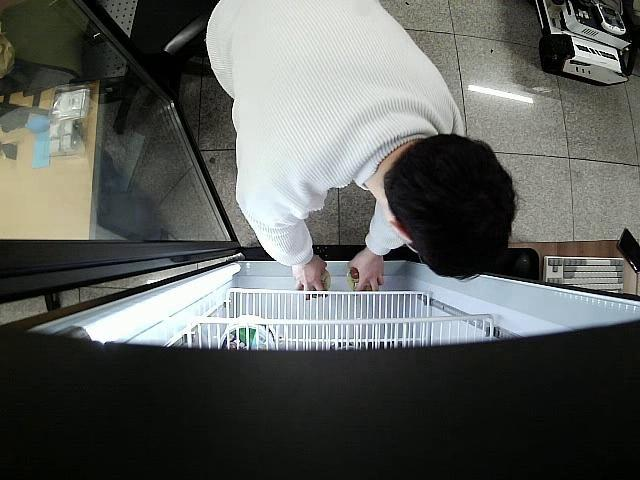04_chapagetti_S: (303, 266, 332, 300), (346, 267, 380, 294)
